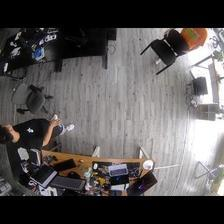normal: (1, 116, 74, 149)
